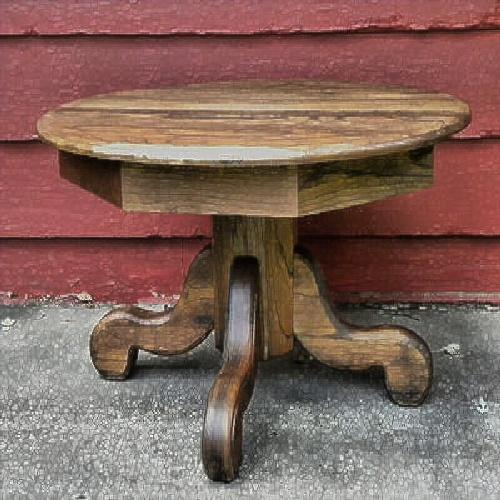table: (57, 72, 470, 467)
